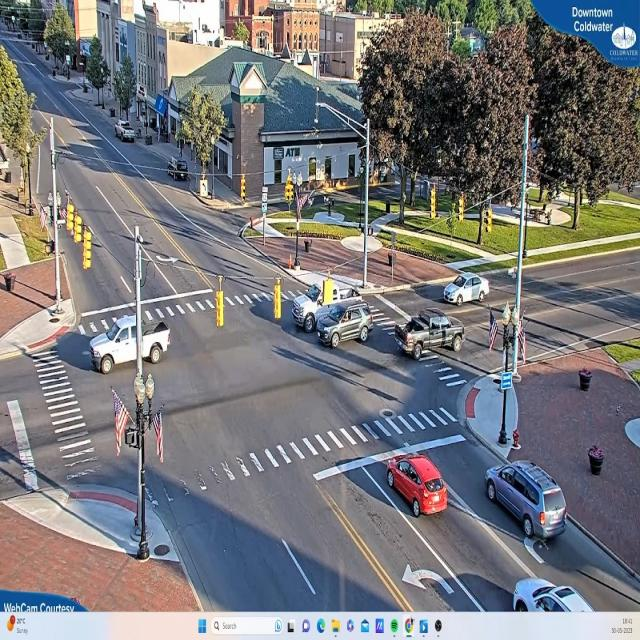car: (487, 461, 568, 541), (90, 313, 170, 374), (386, 454, 448, 518), (398, 312, 467, 359), (294, 274, 365, 318), (315, 302, 373, 349), (442, 273, 485, 307), (115, 122, 136, 142)
